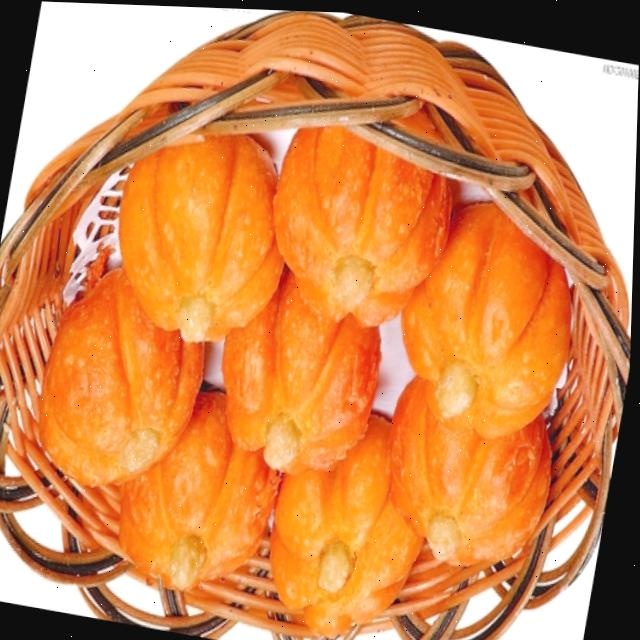炸货点心: (0, 1, 640, 640)
蛋糕甜品: (0, 1, 640, 640)
